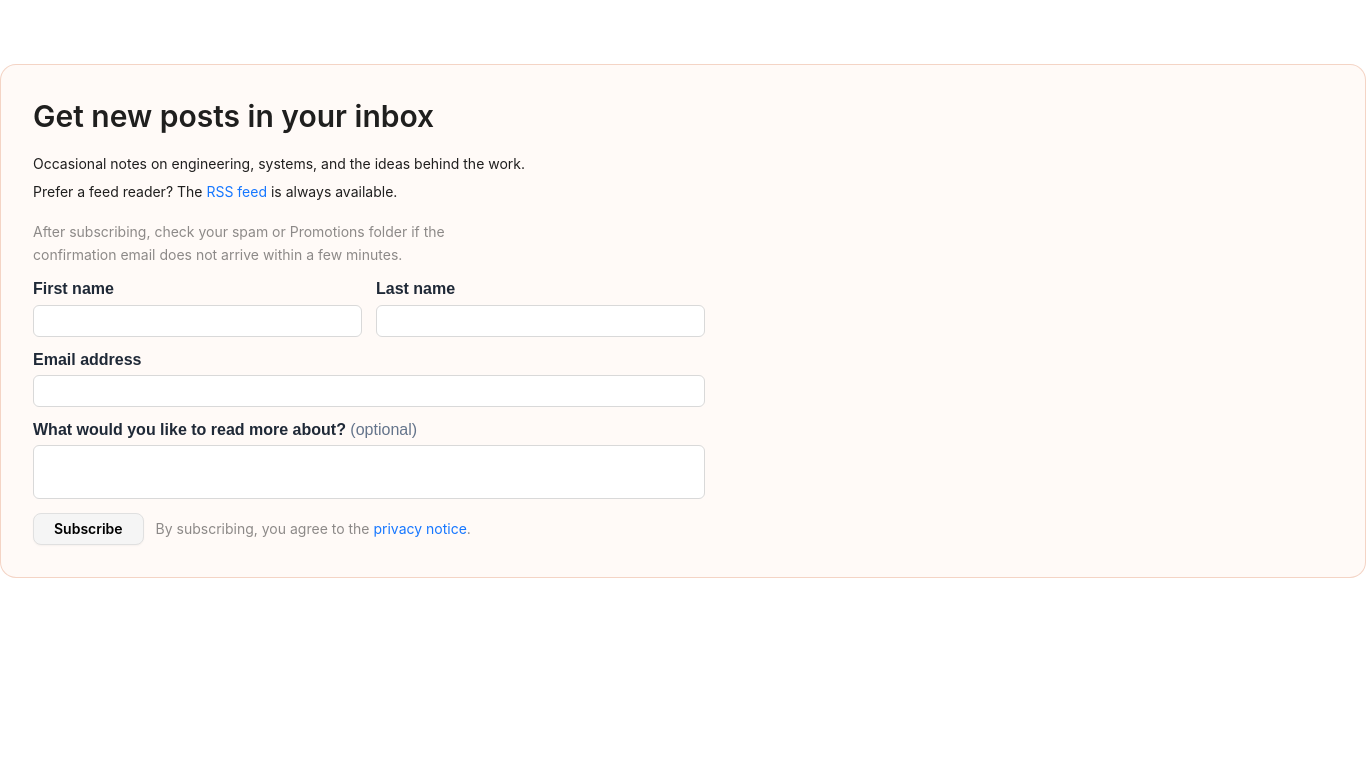
Test: NewsletterSignup › submits the accessible double-opt-in form and links the privacy notice
Type "Shayne" into the field labelled "First name" at [198, 321], box left=33, top=305, right=362, bottom=337
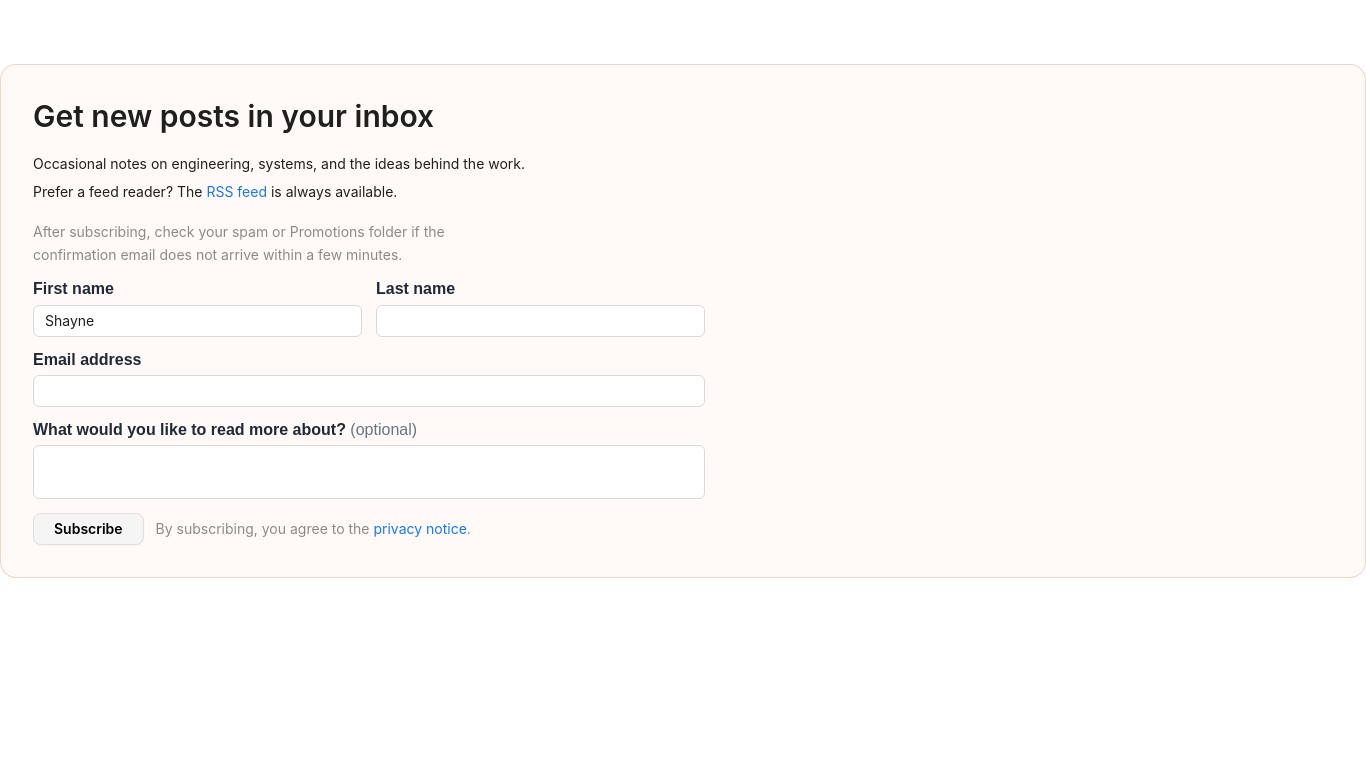
Type "McGregor" into the field labelled "Last name" at [540, 321], box left=376, top=305, right=705, bottom=337
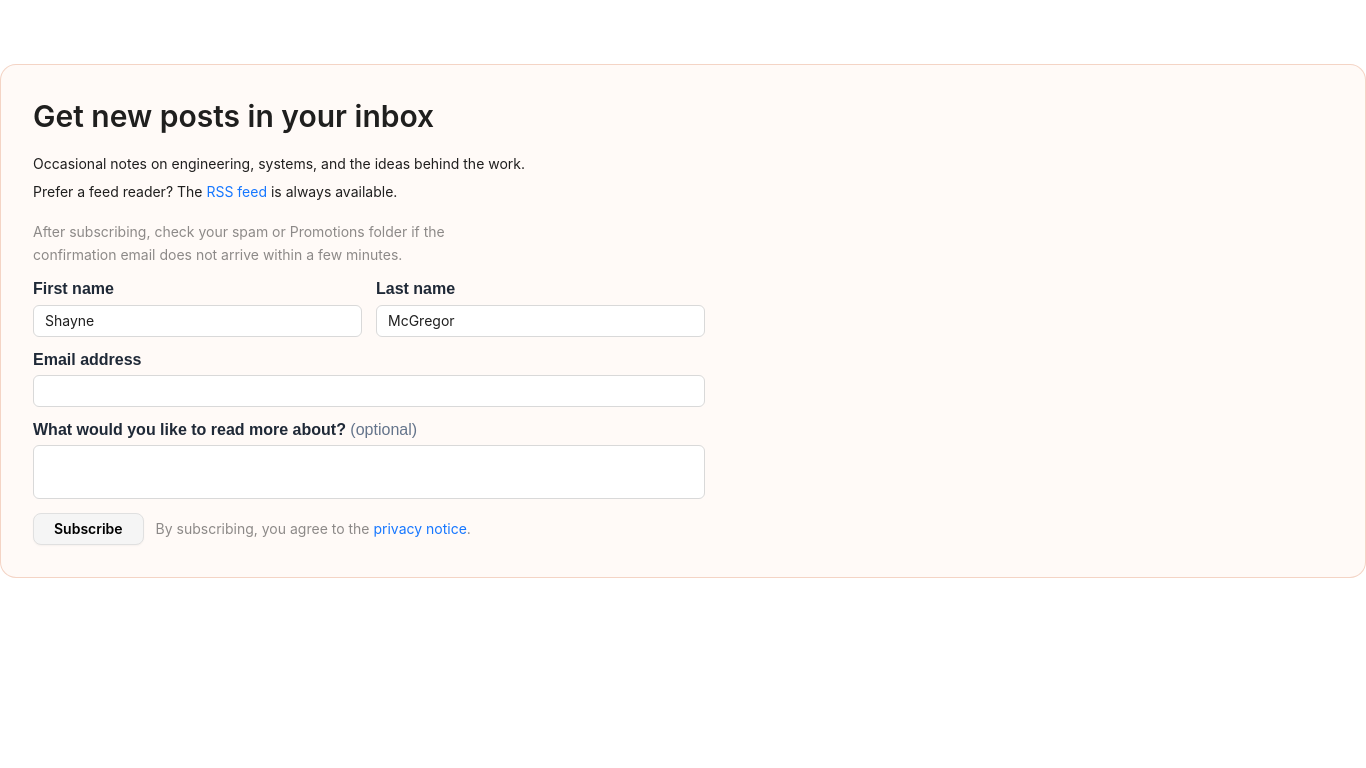
Type "shayne@example.com" into the field labelled "Email address" at [369, 391], box left=33, top=375, right=705, bottom=407
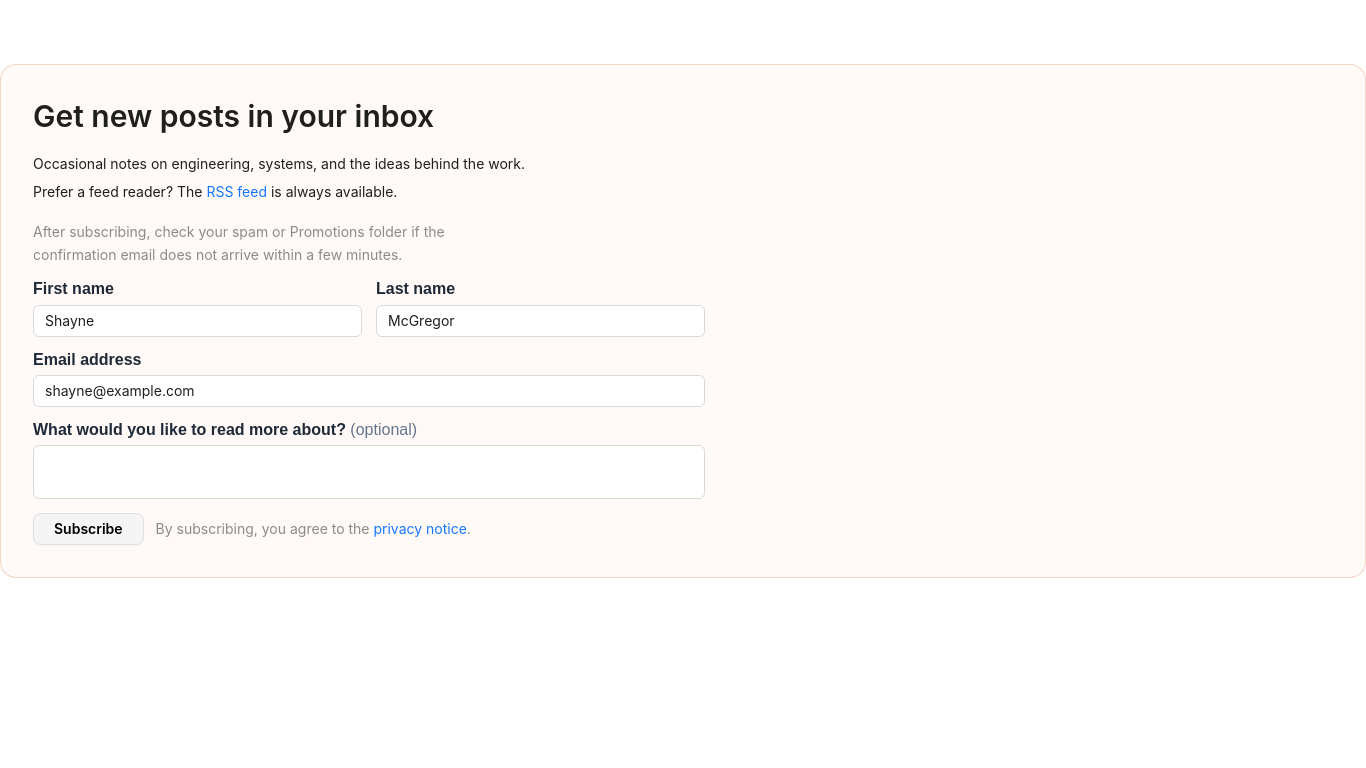
Type "More web writing" into the text box labelled "What would you like to read more about? (optional)" at [369, 472], box left=33, top=445, right=705, bottom=499
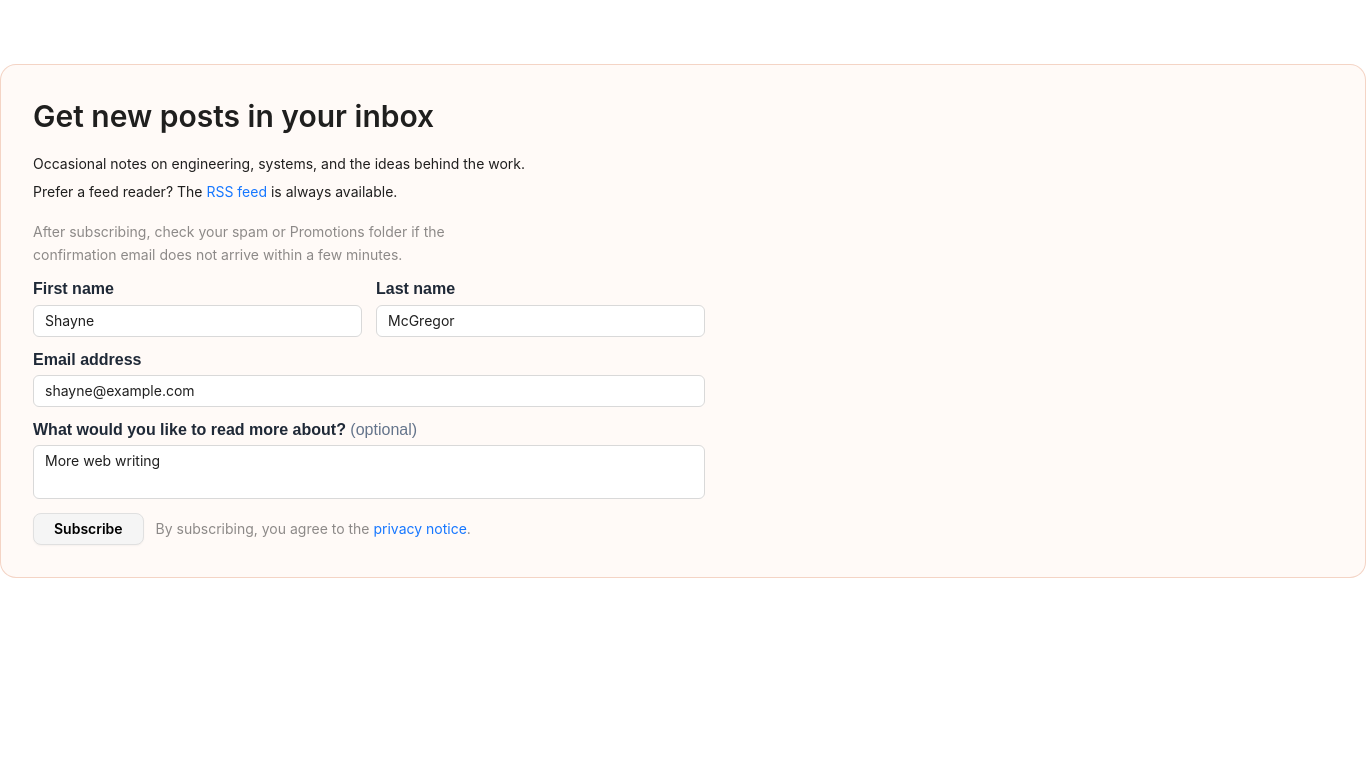
Click the button "Subscribe" at [88, 529], box left=33, top=513, right=144, bottom=545
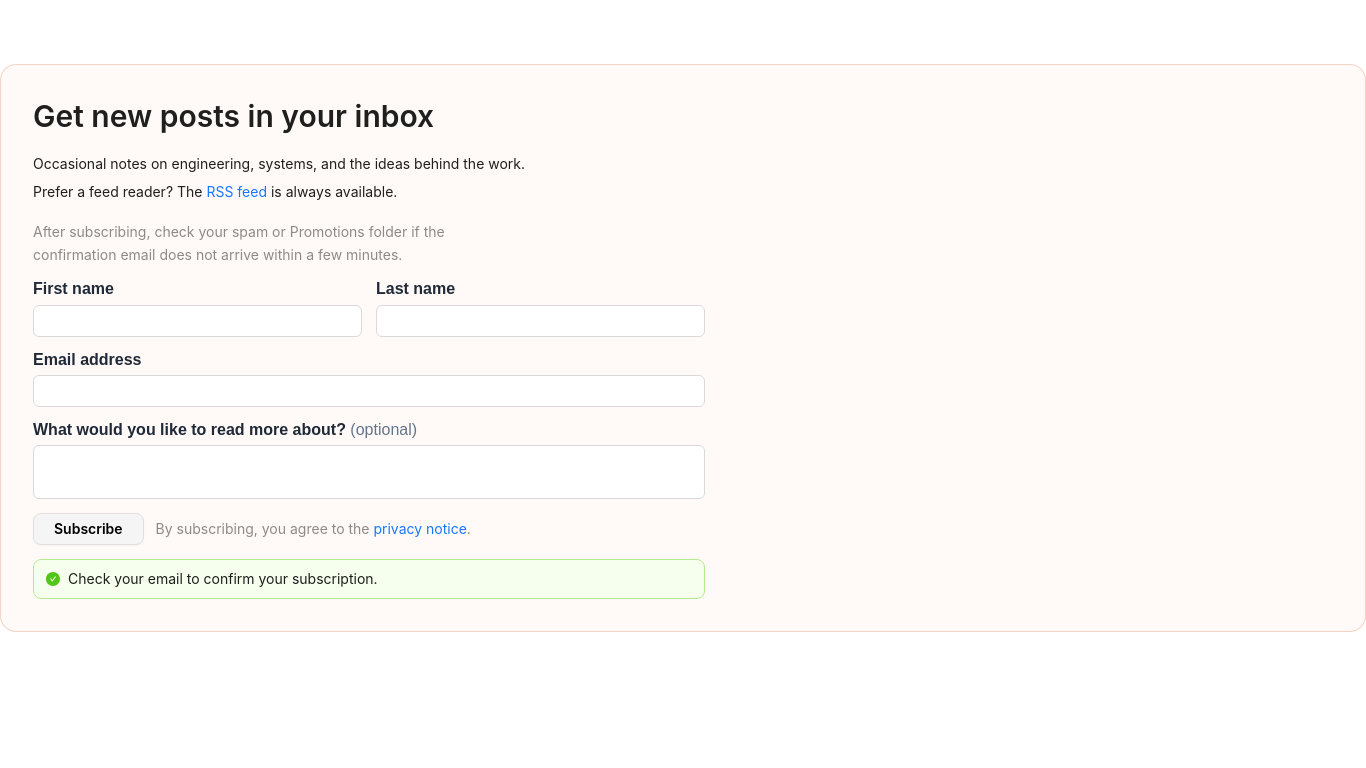
Now the text "Check your email to confirm your subscription." is shown, box left=68, top=570, right=378, bottom=587
Now the field labelled "First name" is empty, box left=33, top=305, right=362, bottom=337
Now the field labelled "Last name" is empty, box left=376, top=305, right=705, bottom=337
